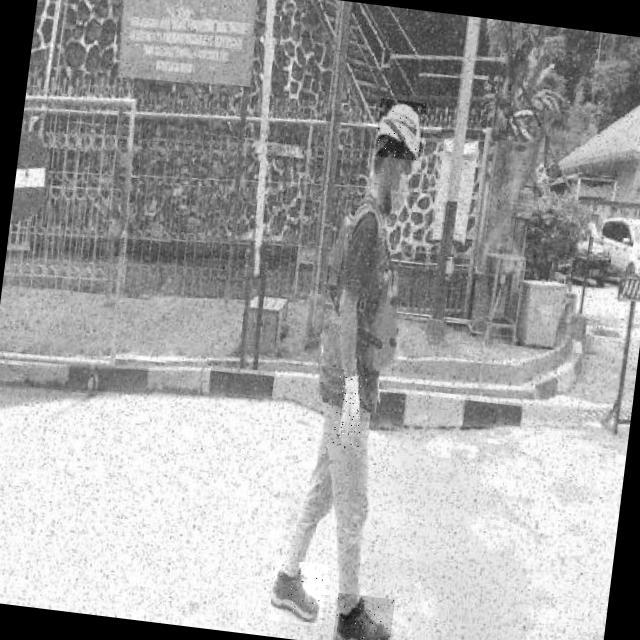Gloves: (326, 360, 377, 460)
Helmet: (374, 98, 427, 161)
Person: (249, 64, 468, 640)
Safety Boot: (269, 559, 330, 627), (332, 592, 396, 640)
Safety Vest: (318, 207, 419, 376)
